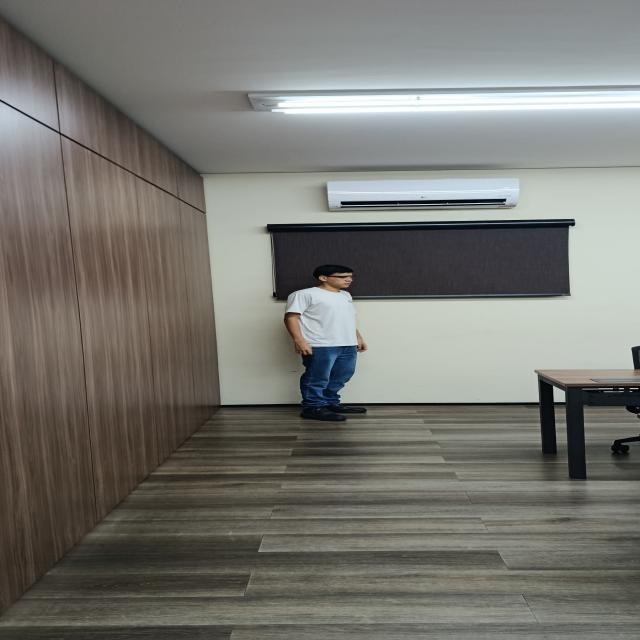oculos-epi: (325, 276, 355, 280)
